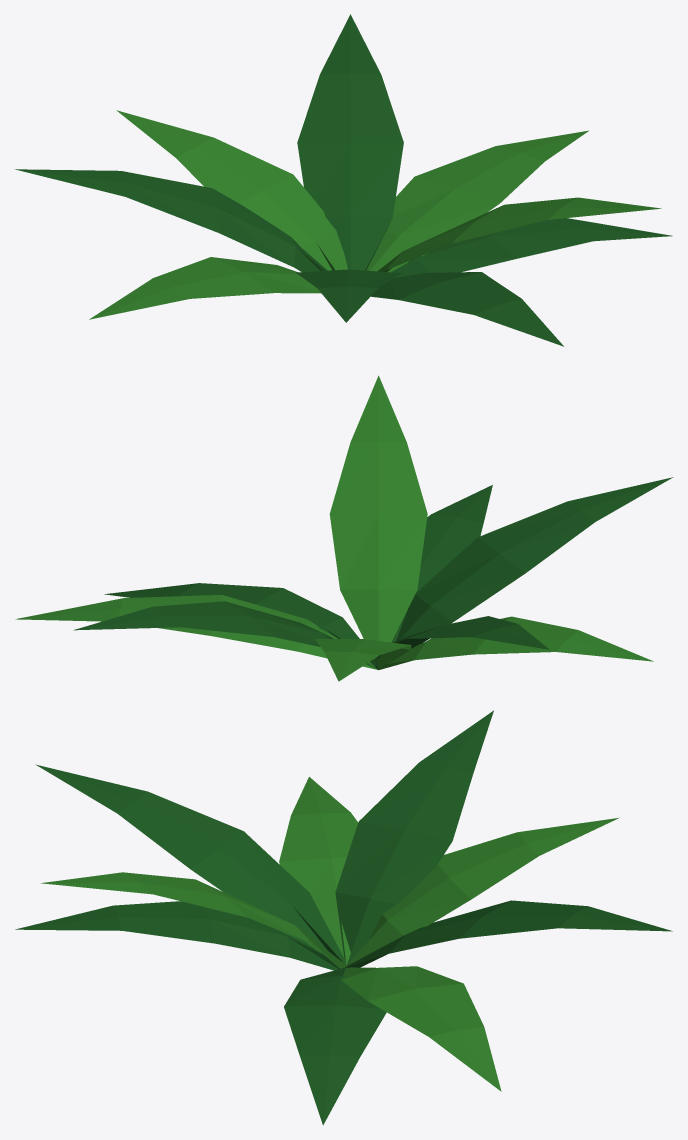
File: fern_large.glb
3 renders of one model, top to bottom at view 1: azimuth 30°, elevation 25°; view 2: azimuth 150°, elevation 25°; view 3: azimuth 270°, elevation 25°, orthographic. The views are drawn at different scales.
Visible parts, largest first — view 1: leaf_dark, leaf; view 2: leaf, leaf_dark; view 3: leaf_dark, leaf.
Boxes of the visible parts, x1,y1,x2,y2 form: leaf_dark: [15, 14, 672, 346]; leaf: [89, 110, 661, 319]; leaf: [15, 375, 653, 681]; leaf_dark: [73, 477, 673, 669]; leaf_dark: [15, 710, 672, 1125]; leaf: [41, 777, 619, 1091].
Size of the model in its own units: 2.85 by 0.7768 by 2.77.
